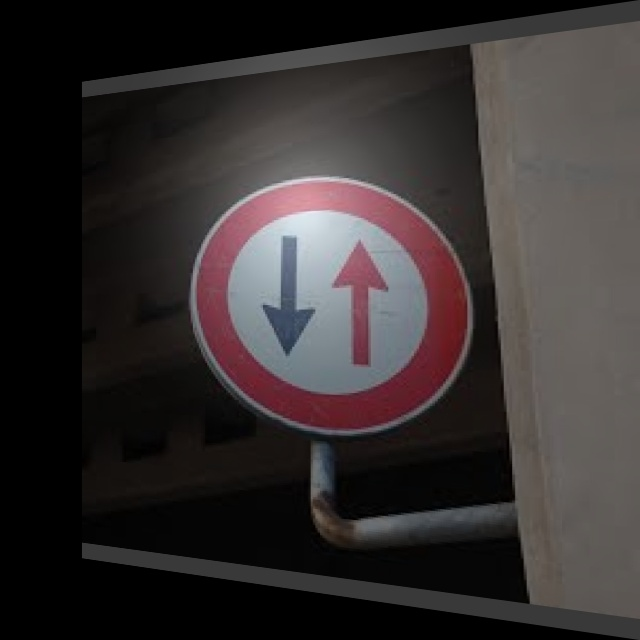Mandatory_Two_Way_Traffic: (191, 165, 490, 436)
